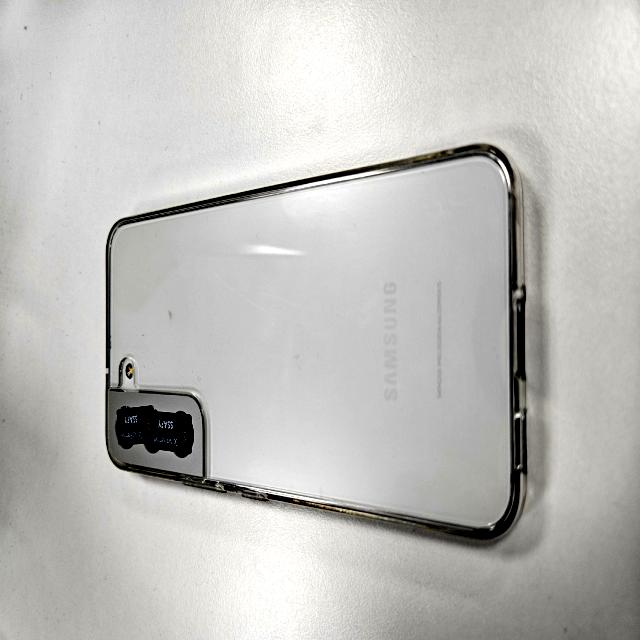phone: (104, 140, 531, 544)
sticker: (152, 411, 192, 450), (118, 406, 154, 443)
